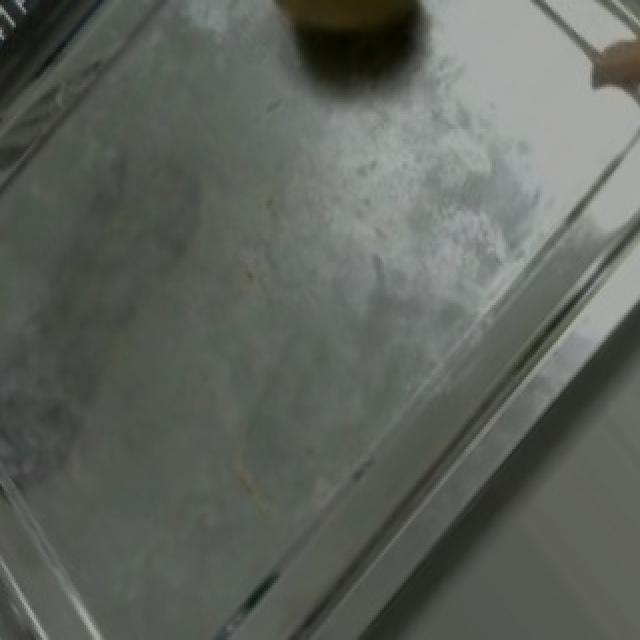Fruit: (248, 0, 464, 119)
